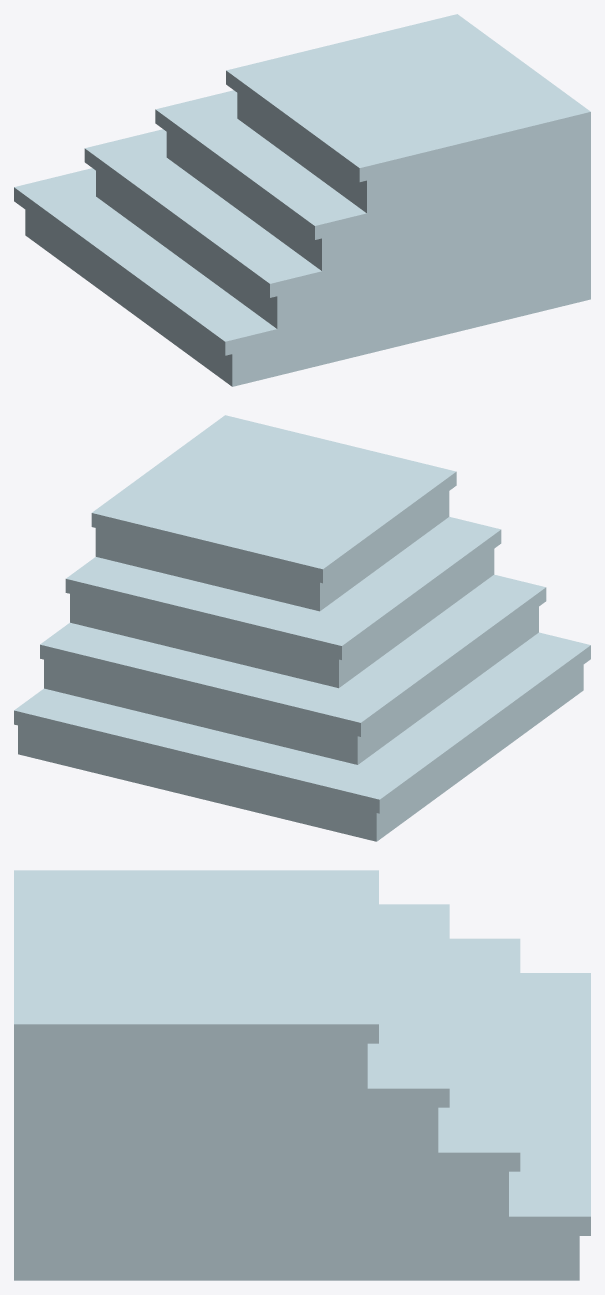
3 views of the same model, one above another, from view 1: azimuth 30°, elevation 25°; view 2: azimuth 150°, elevation 25°; view 3: azimuth 270°, elevation 25° (orthographic). The views are drawn at different scales.
Visible parts, largest first — view 1: stairsFullCornerOuter; view 2: stairsFullCornerOuter; view 3: stairsFullCornerOuter.
Part boxes in pixels (box(x1,y1,x2,y2)): stairsFullCornerOuter: box(14, 14, 590, 386); stairsFullCornerOuter: box(14, 415, 590, 841); stairsFullCornerOuter: box(14, 870, 590, 1280).
Size of the model in its own units: 1.02 by 0.5 by 1.02.
